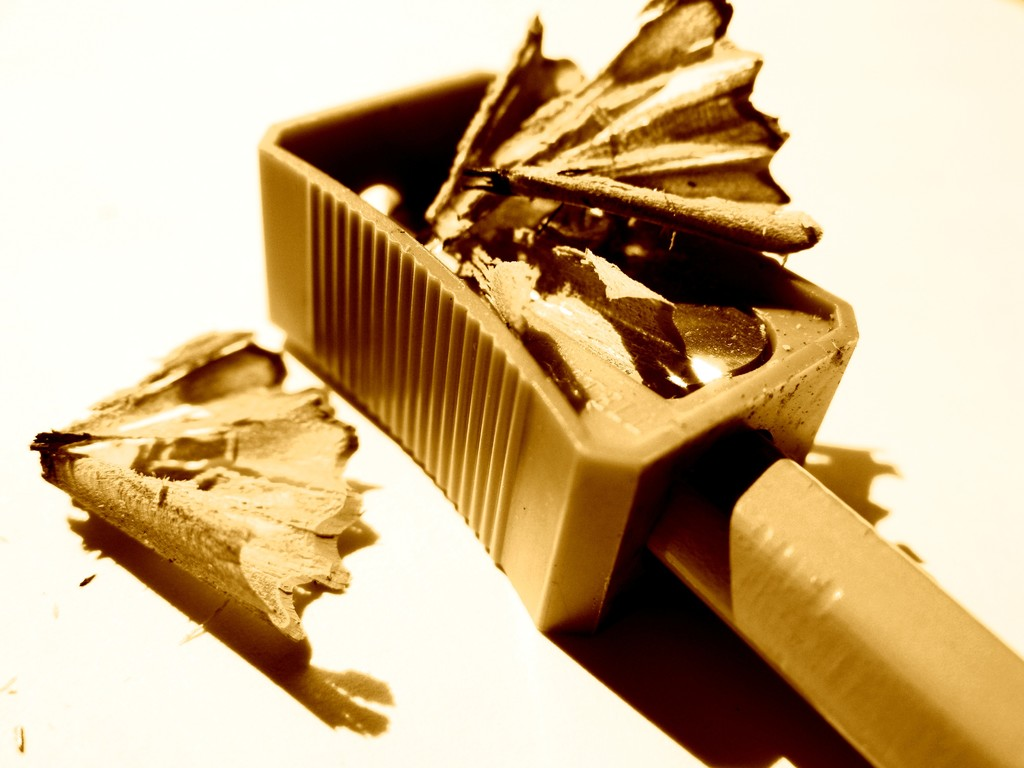sharpener: (253, 48, 864, 644)
